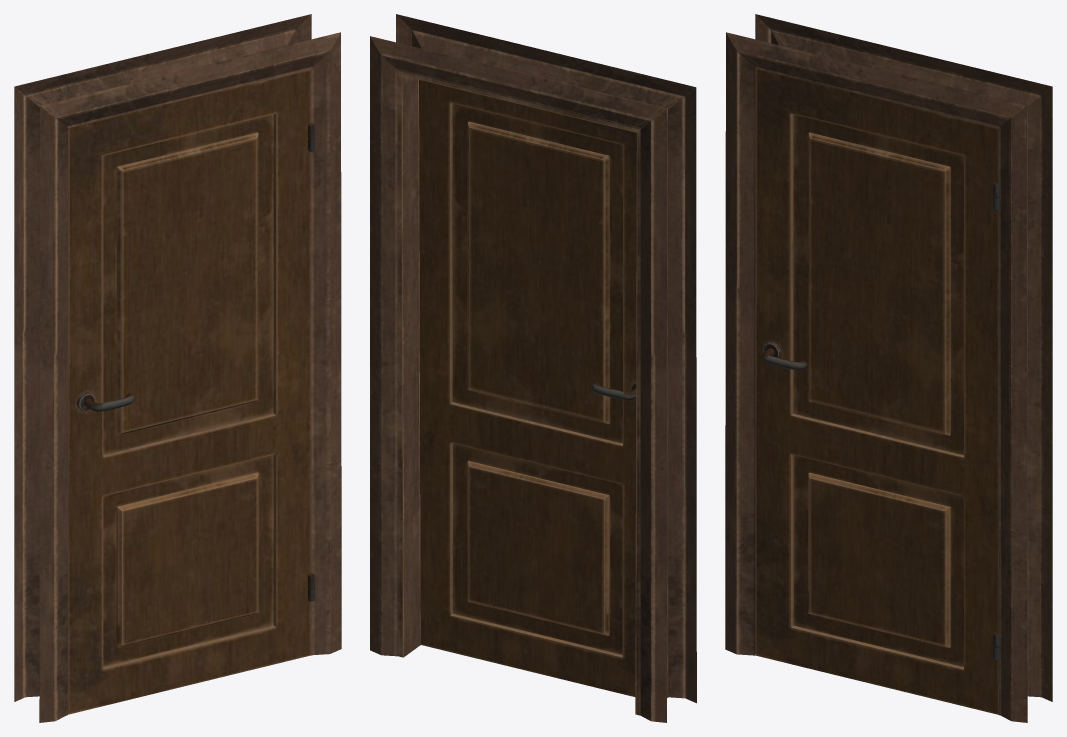
Rendered from f_door.glb.
3 renders of one model, left to right at view 1: azimuth 30°, elevation 25°; view 2: azimuth 150°, elevation 25°; view 3: azimuth 330°, elevation 25°, orthographic.
Bounding box in the file's own units: 3.19 × 6.22 × 0.7591.
Materials: 2 (2 with a texture image).
